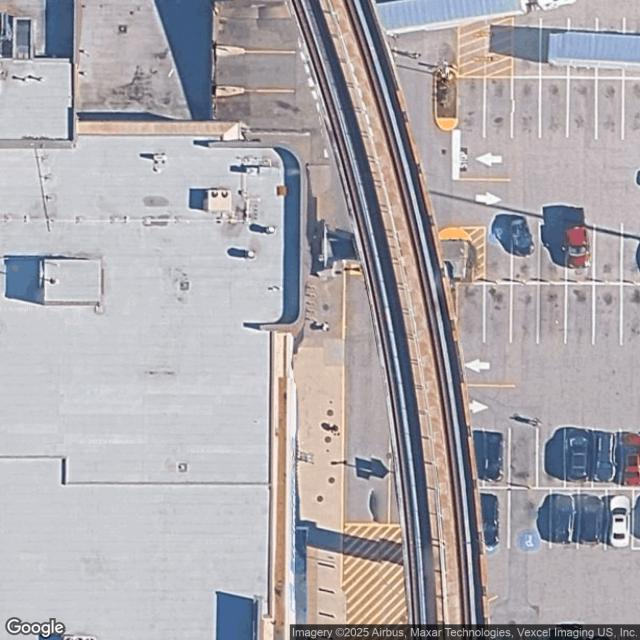car: (561, 205, 591, 268), (564, 428, 590, 480), (550, 494, 575, 545), (578, 497, 604, 546), (619, 430, 640, 489), (608, 493, 630, 549), (594, 431, 616, 485), (506, 216, 534, 258), (480, 492, 500, 550), (482, 432, 504, 484)
lot_boundary: (452, 0, 639, 626)
stall: (510, 489, 550, 550), (479, 490, 509, 551), (512, 78, 540, 138), (540, 78, 568, 138), (568, 78, 596, 138), (457, 78, 485, 138), (511, 223, 539, 283), (594, 223, 622, 283), (566, 224, 594, 284), (539, 224, 567, 284), (456, 284, 484, 344), (606, 489, 634, 549), (564, 429, 592, 489), (481, 428, 509, 488), (485, 78, 512, 138), (596, 78, 623, 138), (542, 18, 569, 78), (513, 17, 540, 77), (569, 18, 596, 78), (597, 18, 624, 78), (484, 284, 511, 344), (566, 284, 593, 344), (539, 284, 566, 344), (511, 284, 538, 344), (484, 224, 511, 284), (538, 428, 565, 488), (510, 428, 537, 488), (594, 284, 621, 344), (579, 489, 606, 549), (551, 490, 578, 550), (593, 428, 620, 488), (622, 428, 640, 487), (624, 18, 640, 77), (624, 79, 640, 137)
